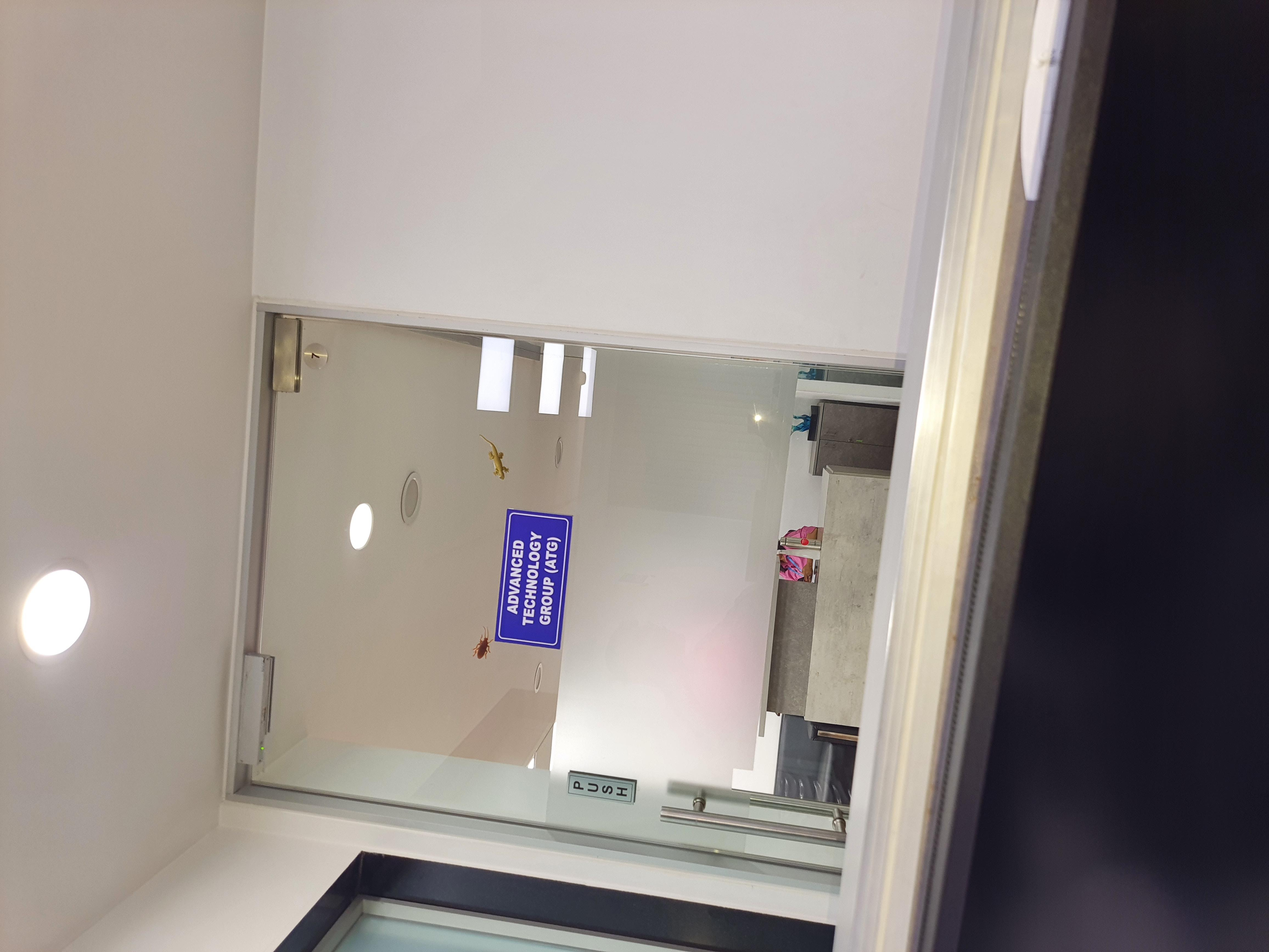cockroach: (378, 350, 445, 376)
lizard: (623, 350, 697, 397)
